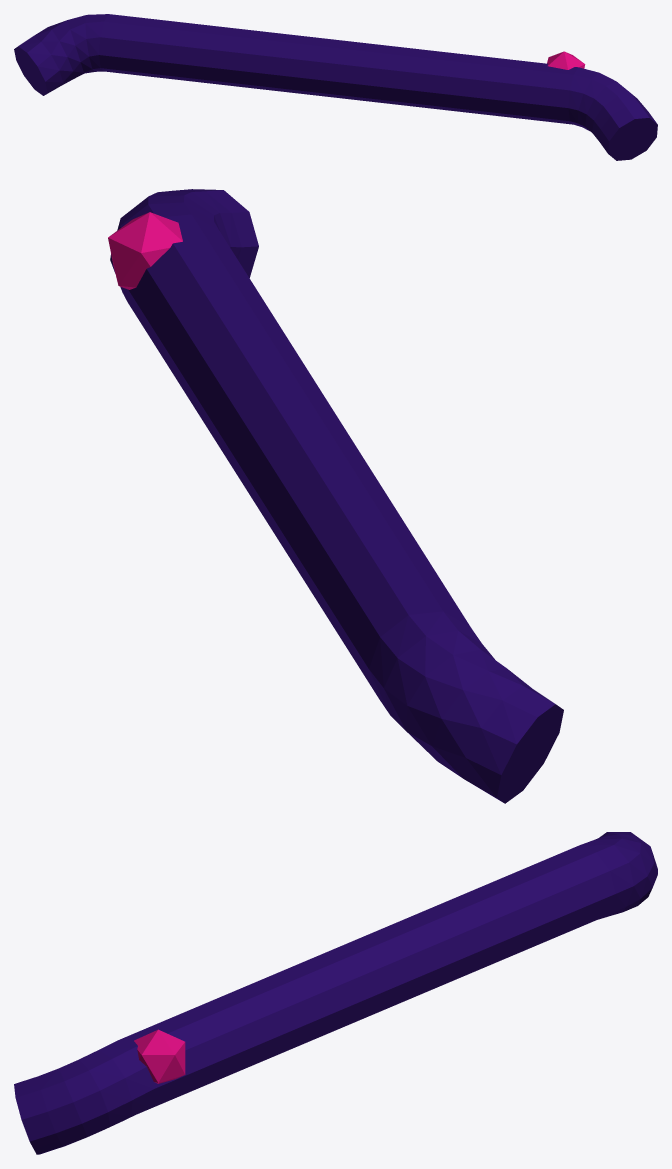
The model's file is AlienV2_Run_Root_Corner_XFront.fbx.
3 views of the same model, one above another, from view 1: azimuth 30°, elevation 25°; view 2: azimuth 150°, elevation 25°; view 3: azimuth 270°, elevation 25° (orthographic). The views are drawn at different scales.
Visible parts, largest first — view 1: AlienV2_Run_Root_Corner_XFront; view 2: AlienV2_Run_Root_Corner_XFront; view 3: AlienV2_Run_Root_Corner_XFront.
Boxes of the visible parts, x1,y1,x2,y2 form: AlienV2_Run_Root_Corner_XFront: (14, 14, 657, 160); AlienV2_Run_Root_Corner_XFront: (108, 189, 563, 803); AlienV2_Run_Root_Corner_XFront: (14, 832, 657, 1154).
Bounding box in the file's own units: 0.6083 × 0.1145 × 0.6095.
